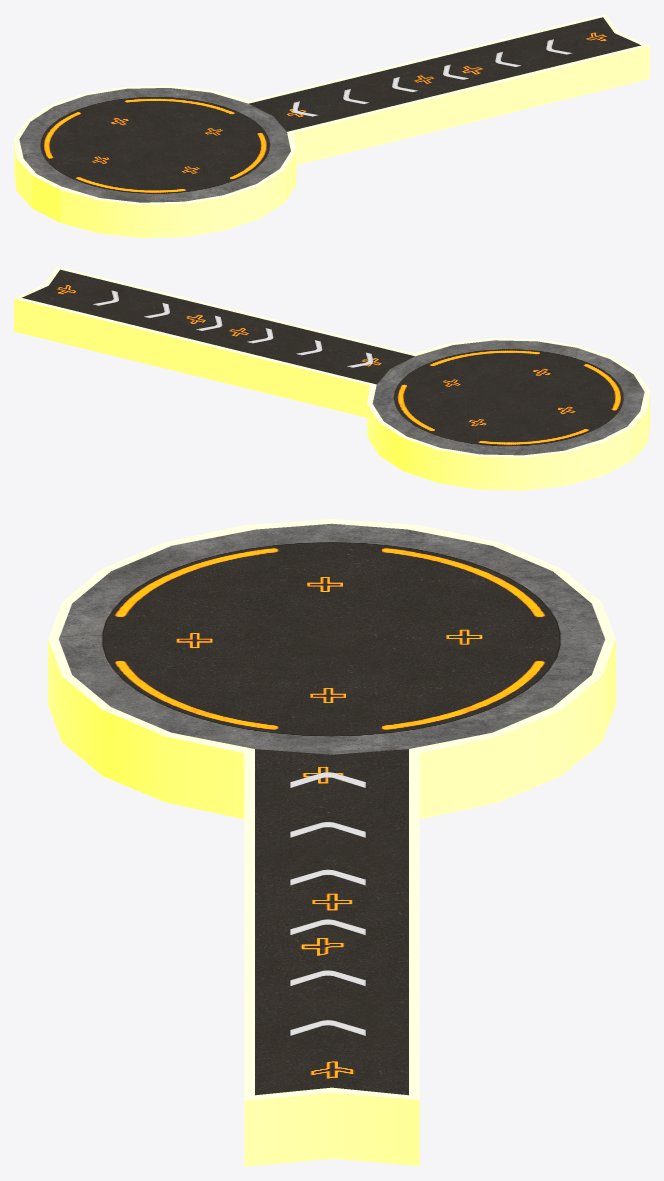
File: Ramp.fbx
3 renders of one model, top to bottom at view 1: azimuth 30°, elevation 25°; view 2: azimuth 150°, elevation 25°; view 3: azimuth 270°, elevation 25°, orthographic. The views are drawn at different scales.
Visible parts, largest first — view 1: Ramp; view 2: Ramp; view 3: Ramp.
Boxes of the visible parts, <box> form: Ramp: <box>14,14,649,237</box>; Ramp: <box>14,266,649,490</box>; Ramp: <box>48,519,615,1166</box>.
Bounding box in the file's own units: 2161 × 116 × 891.
